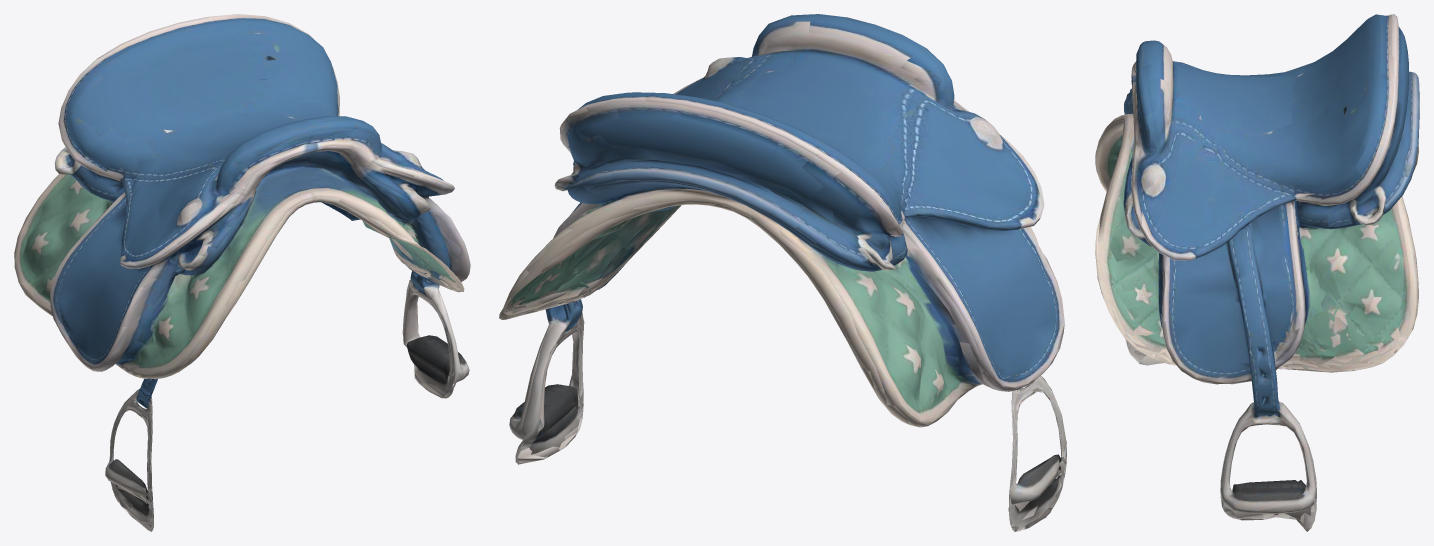
3 renders of one model, left to right at view 1: azimuth 30°, elevation 25°; view 2: azimuth 150°, elevation 25°; view 3: azimuth 270°, elevation 25°, orthographic. The views are drawn at different scales.
Parts seen in each view (by area): view 1: saddle-blue; view 2: saddle-blue; view 3: saddle-blue.
Boxes of the visible parts, <box> form: saddle-blue: <box>14,14,470,531</box>; saddle-blue: <box>499,14,1066,531</box>; saddle-blue: <box>1095,14,1419,531</box>.
Size of the model in its own units: 0.3315 by 0.3073 by 0.2247.
Materials: 1 (1 with a texture image).
